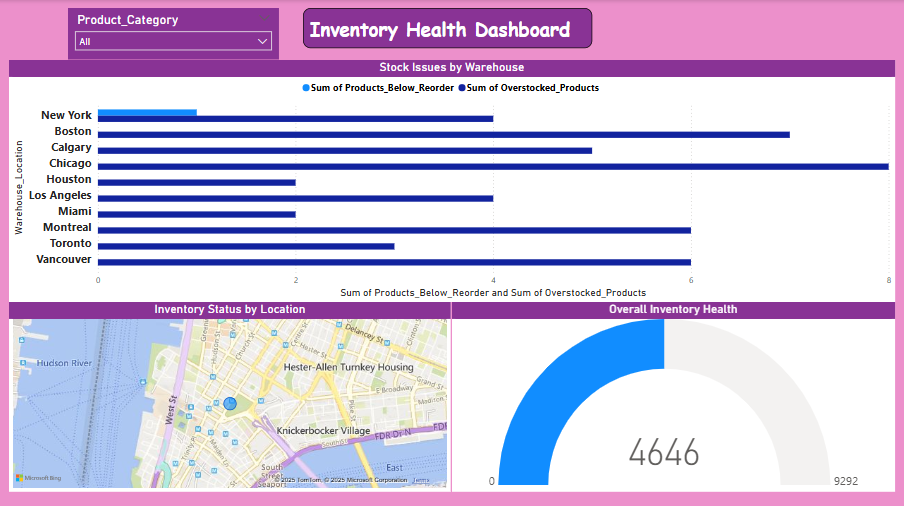

What the dashboard file says about the page in this screenshot:
{"tool":"powerbi","page":{"name":"Inventory Health Dashboard","canvas":[1280,720],"ordinal":1},"visuals":[{"type":"map","title":"Inventory Status by Location","fields":{"Category":["vw_Inventory_Health_By_Warehouse.Warehouse_Location"],"Size":["Sum(vw_Inventory_Health_By_Warehouse.Products_Below_Reorder)"]},"box":[12.8,428,626.5,269.3],"z":0},{"type":"clusteredBarChart","title":"Stock Issues by Warehouse","fields":{"Category":["vw_Inventory_Health_By_Warehouse.Warehouse_Location"],"Y":["Sum(vw_Inventory_Health_By_Warehouse.Products_Below_Reorder)","Sum(vw_Inventory_Health_By_Warehouse.Overstocked_Products)"]},"box":[12.8,85,1255.7,343],"z":1000},{"type":"gauge","title":"Overall Inventory Health","fields":{"Y":["Sum(vw_Inventory_Health_By_Warehouse.Avg_Inventory_Buffer)"]},"box":[640.6,428,627.9,269.3],"z":2000},{"type":"textbox","box":[429.4,11.3,409.6,56.7],"z":3000},{"type":"slicer","fields":{"Values":["vw_Product_Performance.Product_Category"]},"box":[96.8,11.7,298.7,73.4],"z":4000}]}

Visuals, with their boxes in screenshot pixels (x1, y1, x2, y2), scaled from the page's 1280x720 canvas onto the 904x506 screenshot:
"Inventory Status by Location" map: l=9, t=301, r=452, b=490
"Stock Issues by Warehouse" clusteredBarChart: l=9, t=60, r=896, b=301
"Overall Inventory Health" gauge: l=452, t=301, r=896, b=490
textbox: l=303, t=8, r=593, b=48
slicer - vw_Product_Performance.Product_Category: l=68, t=8, r=279, b=60
